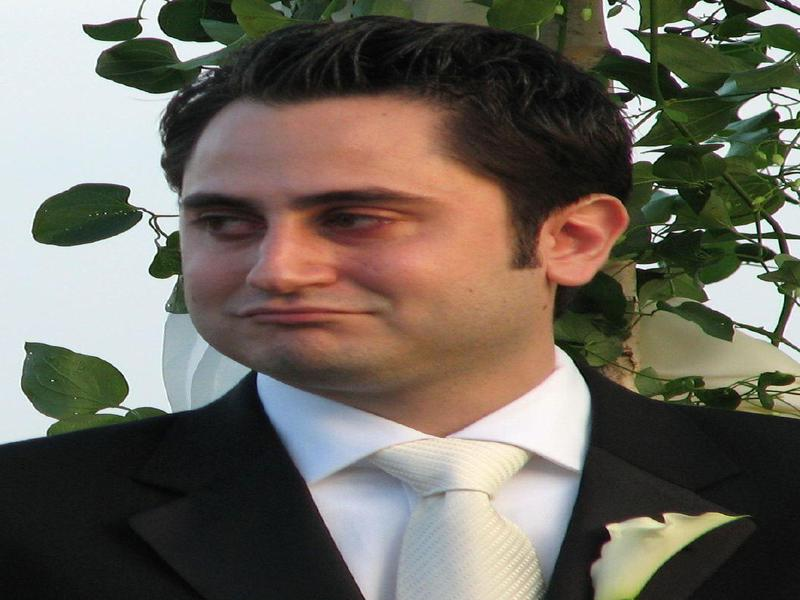person: (12, 26, 793, 600)
